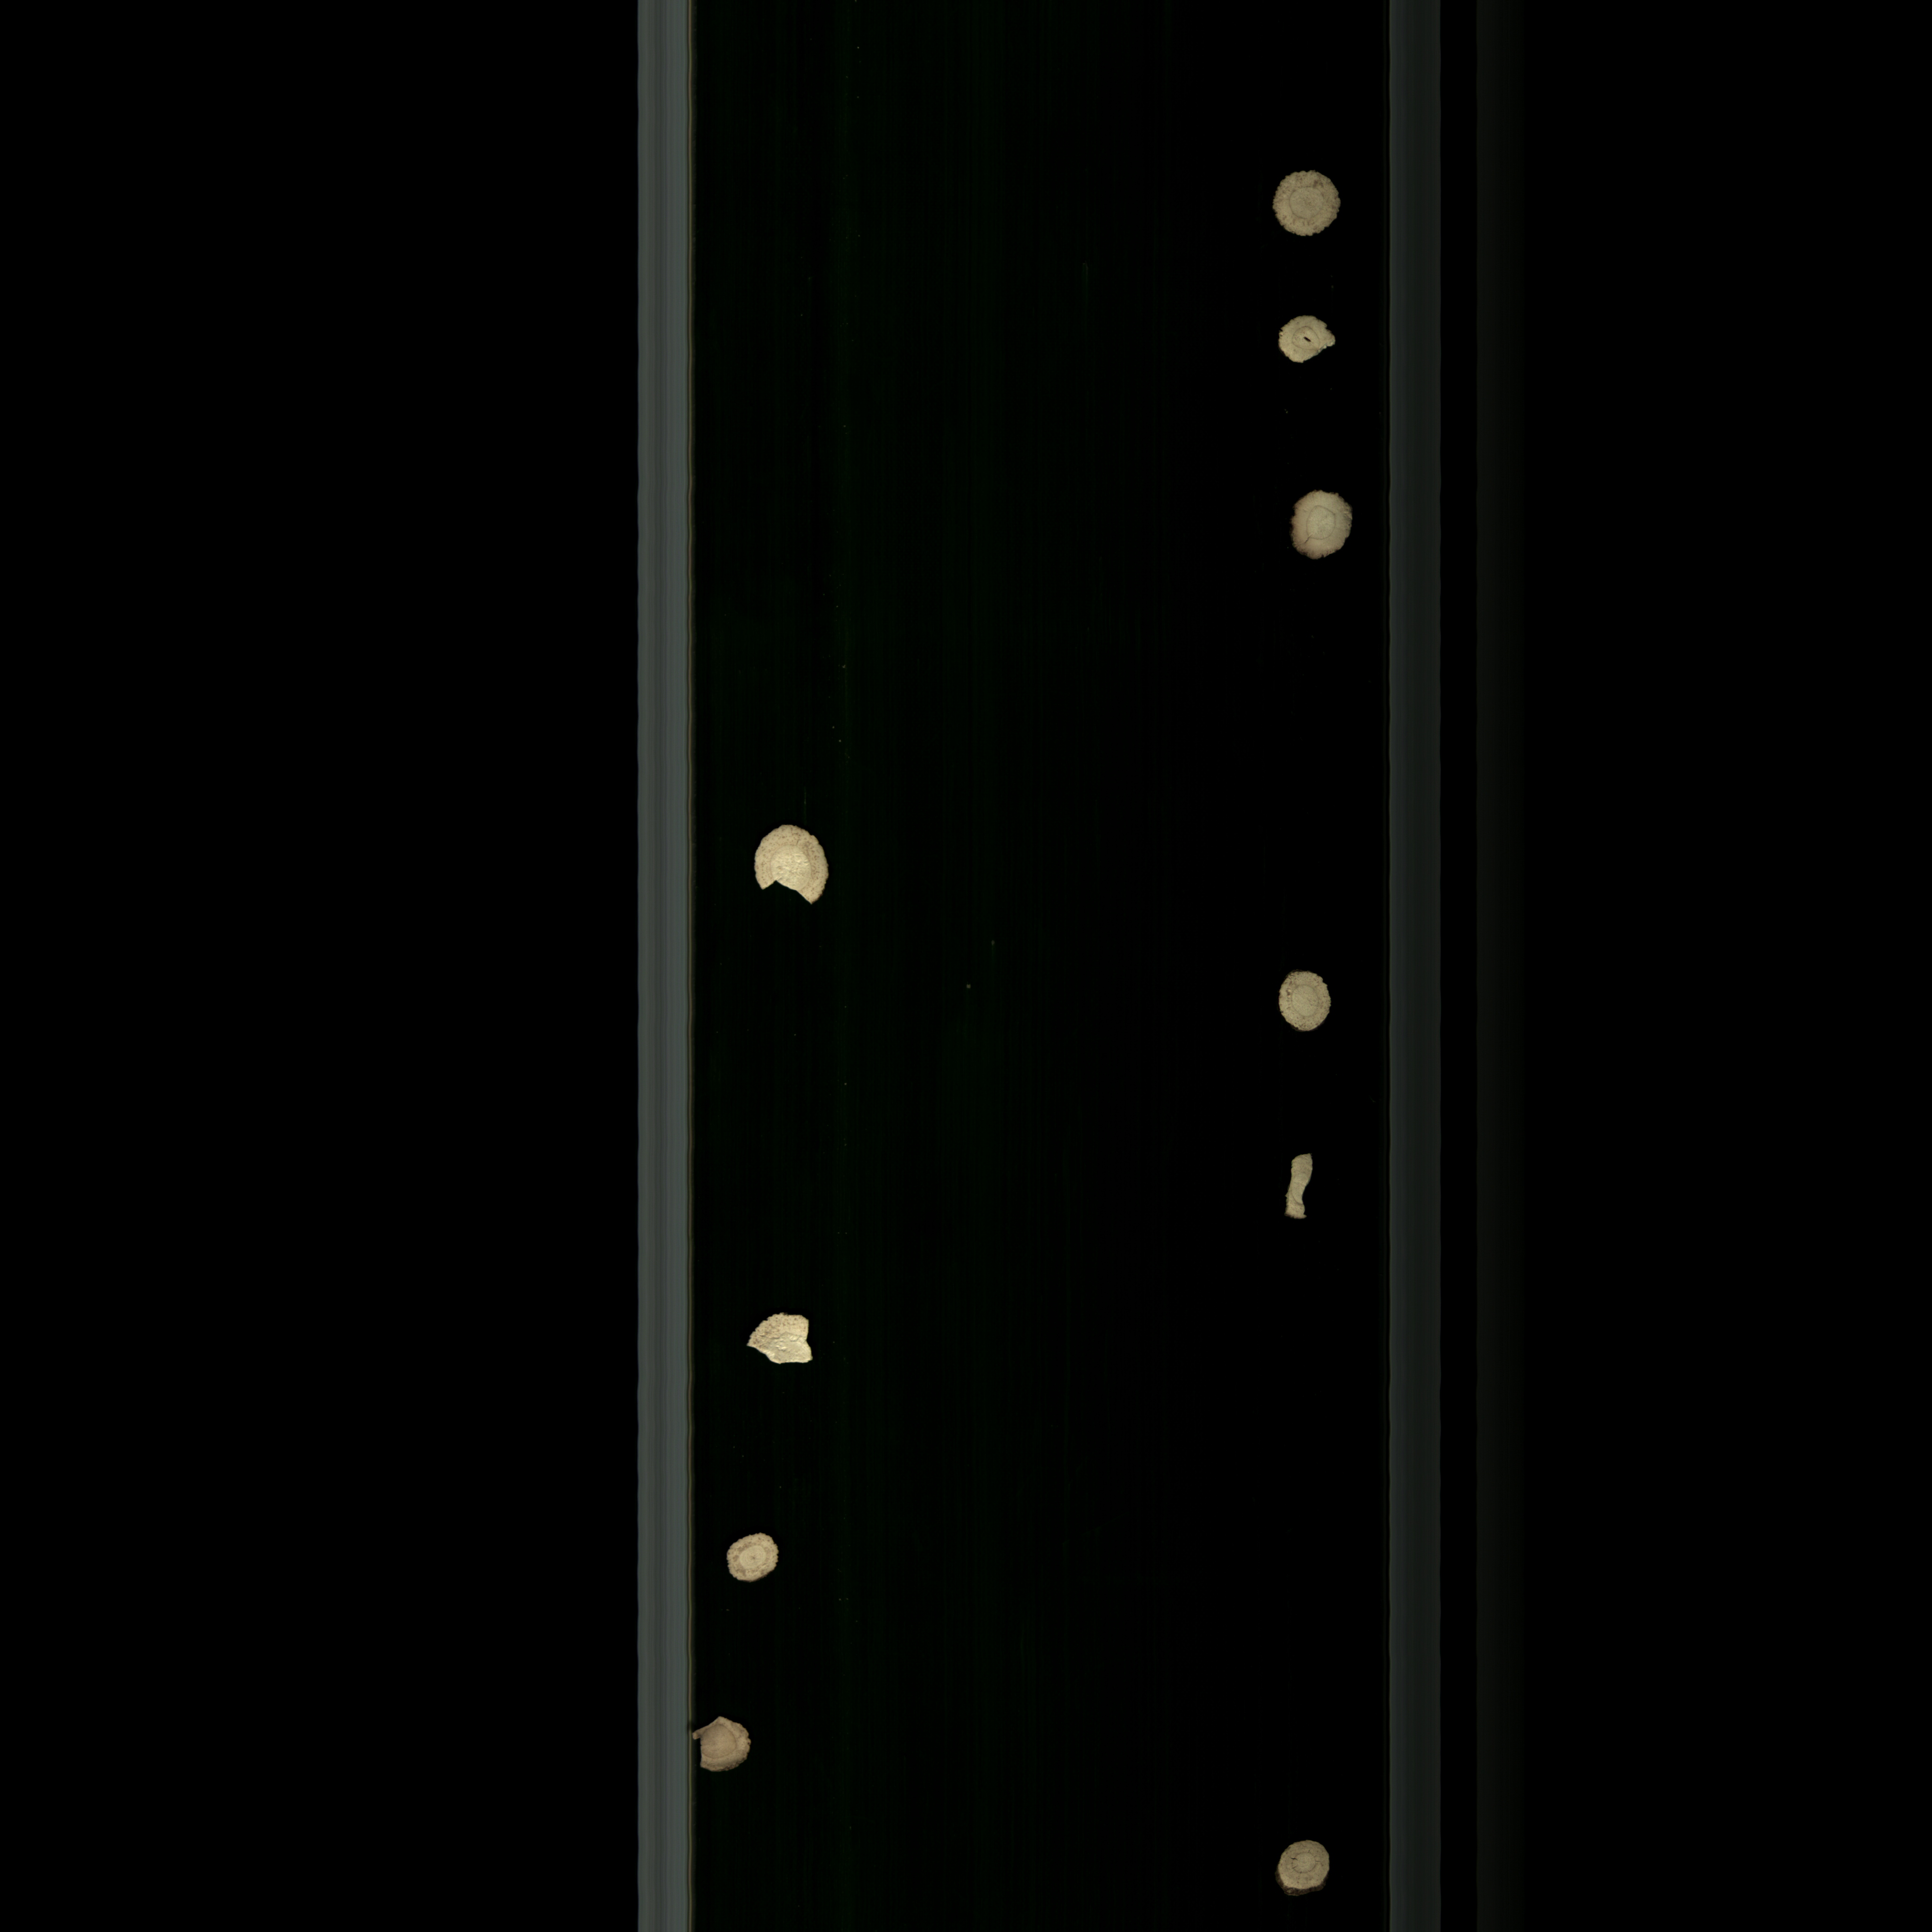debris: (738, 819, 833, 915), (743, 1302, 835, 1375), (1263, 308, 1346, 375)
distortion: (1284, 481, 1366, 566), (1283, 1146, 1318, 1230)
moldy: (1258, 159, 1350, 248), (1256, 1833, 1352, 1905), (685, 1709, 766, 1792)
